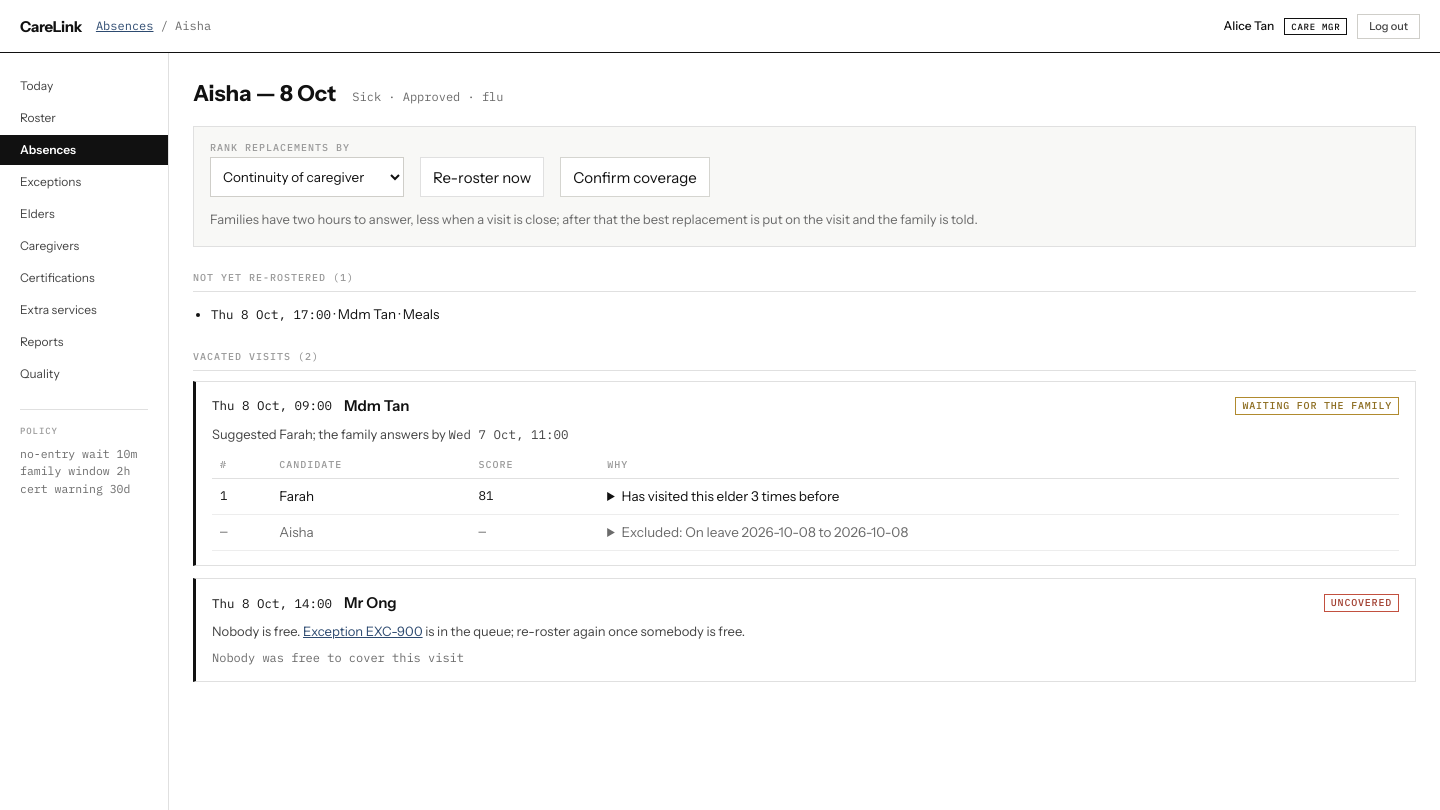
Test case: re-rosters with the chosen objective and says what it did
Check: the heading "Aisha — 8 Oct" is shown, box [193,77,336,110]
Select "Even workload" in the dropdown labelled "Rank replacements by" at (307, 177), box [210,157,404,197]
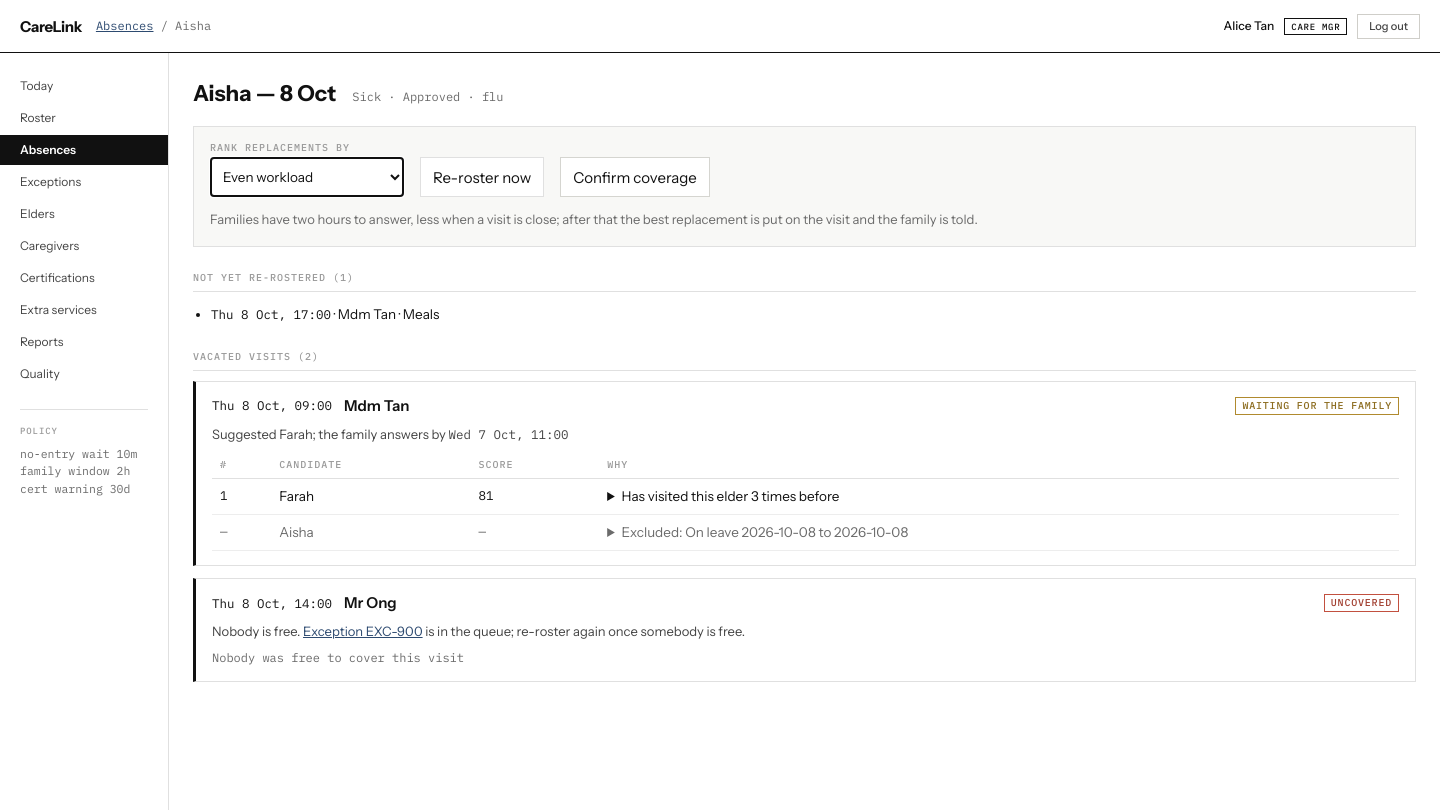
Click the button "Re-roster now".
click(482, 177)  # box [420,157,544,197]
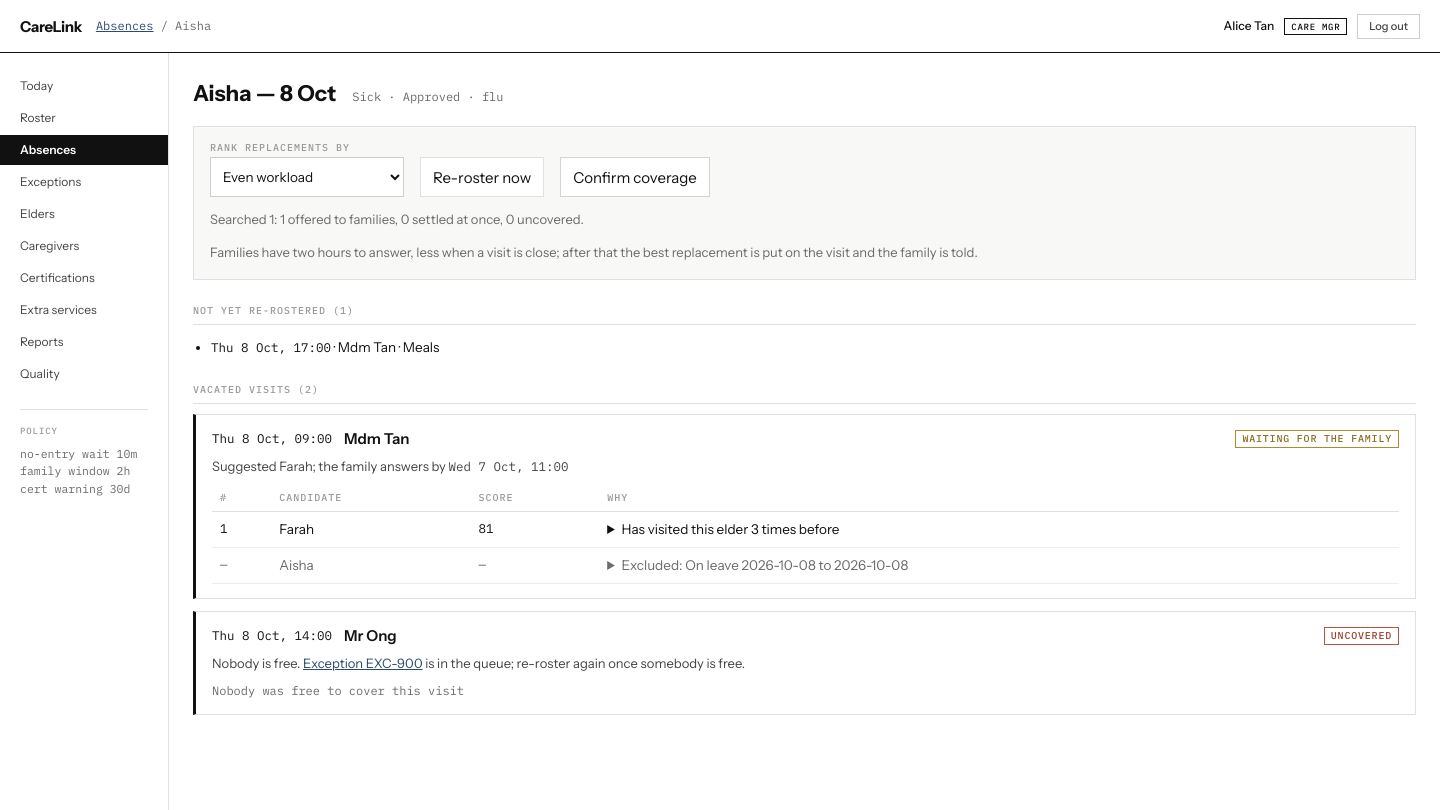
Check: the text "Searched 1: 1 offered to families, 0 settled at once, 0 uncovered." is shown, box [210,211,584,227]
